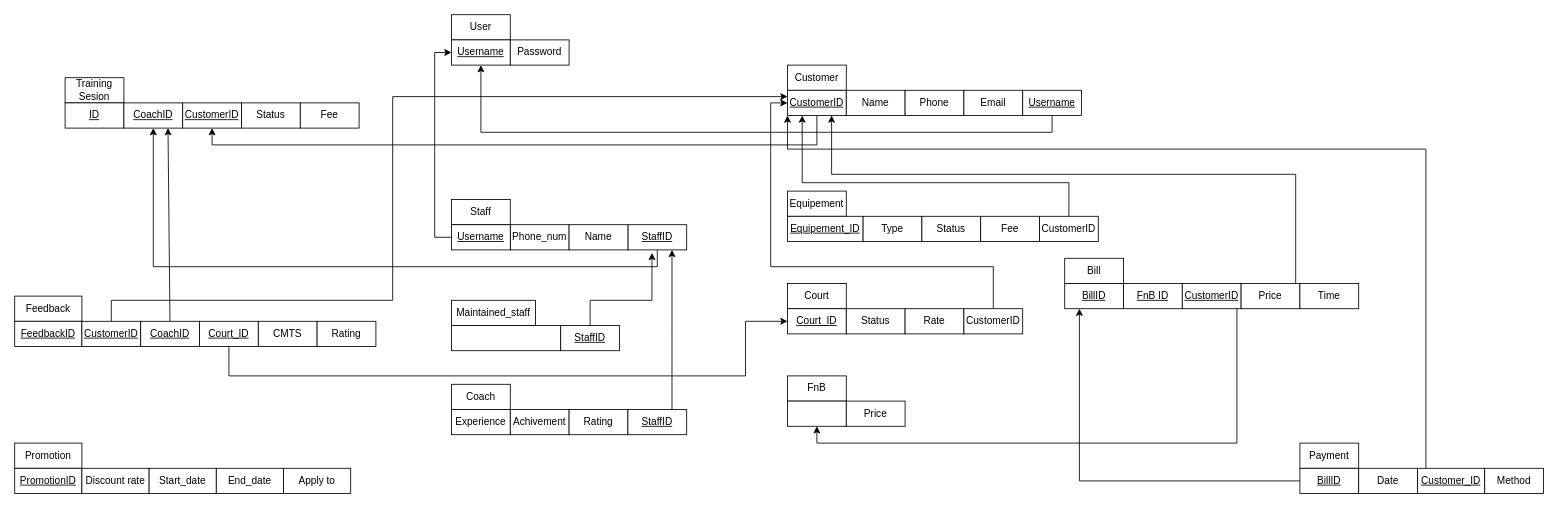
This 1558x508 diagram has some shape labels left out. Here are the shapes that lost their labels. From the top down, the box of each, then its label:
(451, 325, 561, 351): Assigned_equipment
(787, 400, 846, 426): ID_Type
